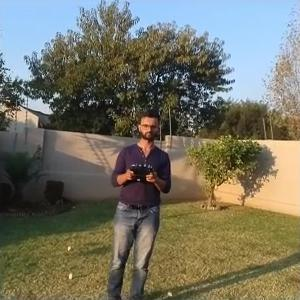follow: (104, 105, 178, 298)
